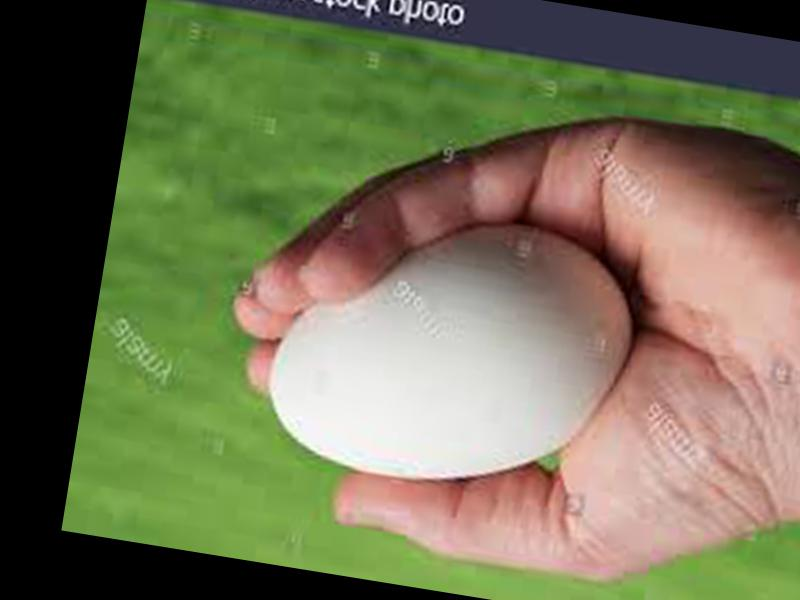Eggs: (259, 189, 652, 513)
